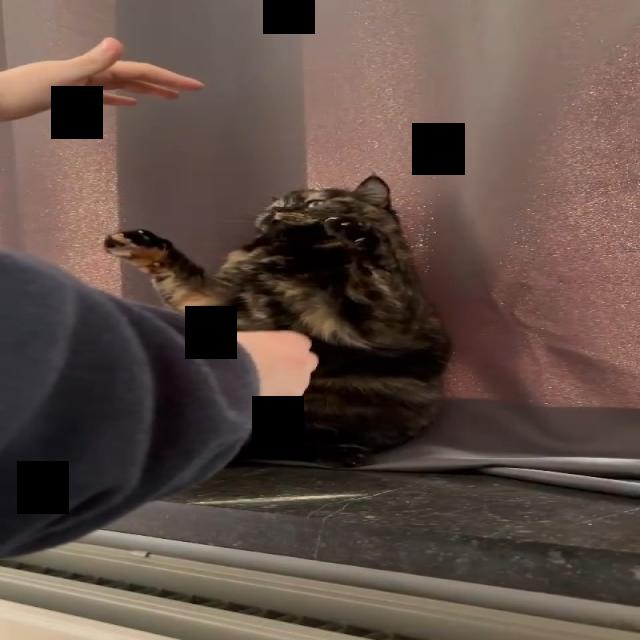authorized: (103, 174, 452, 468)
